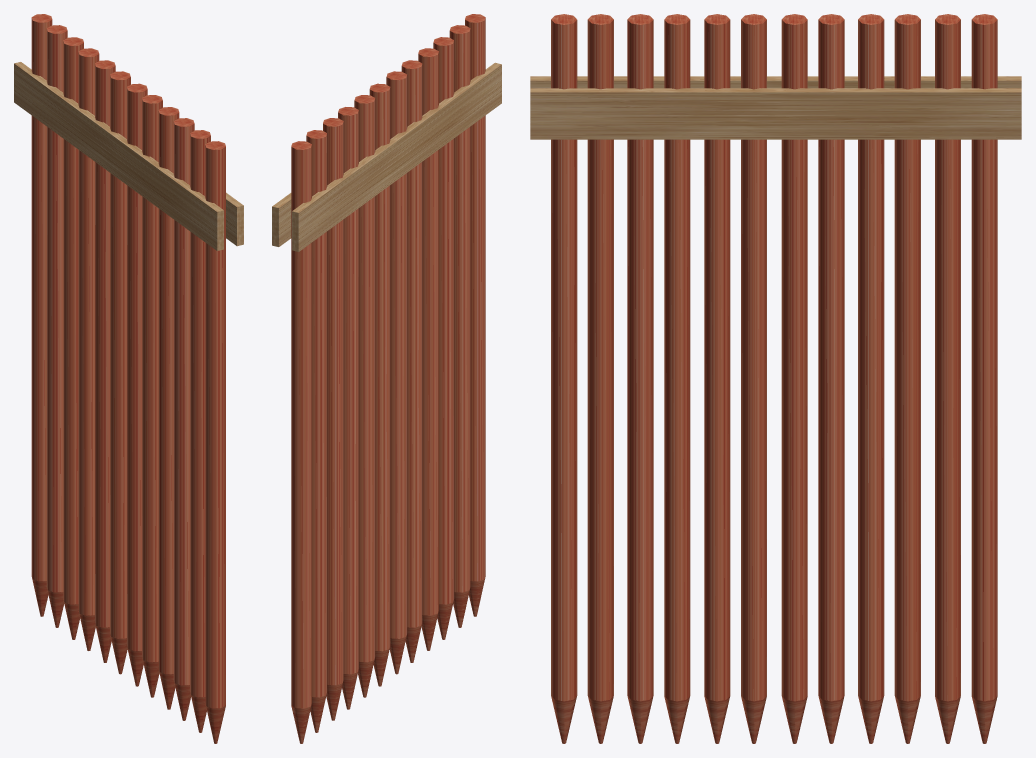
Rendered from porch_open-2.fbx.
3 views of the same model, side by side, from view 1: azimuth 30°, elevation 25°; view 2: azimuth 150°, elevation 25°; view 3: azimuth 270°, elevation 25° (orthographic). The views are drawn at different scales.
Parts seen in each view (by area): view 1: pencil_1, balken; view 2: pencil_1, balken; view 3: pencil_1, balken.
Part boxes in pixels (x1=…): pencil_1: x1=31, y1=14, x2=225, y2=743; balken: x1=14, y1=62, x2=243, y2=250; pencil_1: x1=291, y1=14, x2=485, y2=743; balken: x1=272, y1=62, x2=501, y2=251; pencil_1: x1=551, y1=14, x2=997, y2=743; balken: x1=530, y1=76, x2=1021, y2=139.
Bounding box in the file's own units: 143 × 3060 × 1884.
2 materials, 2 textured.
